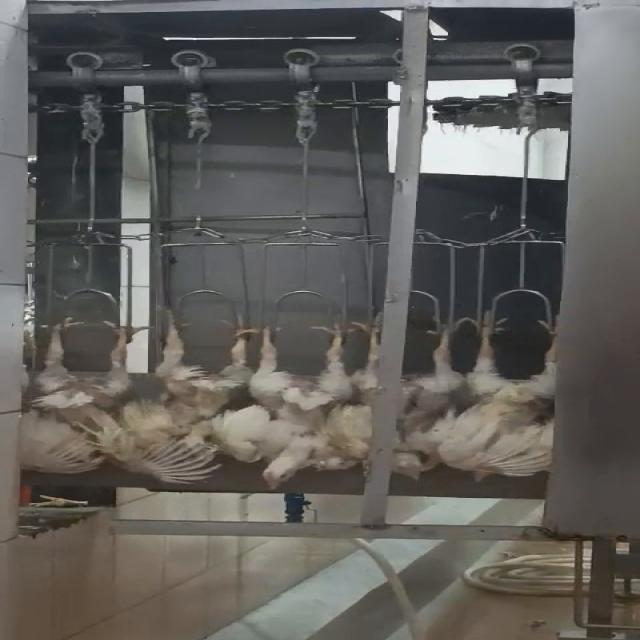chicken: (107, 309, 269, 484), (0, 312, 147, 478), (336, 310, 464, 483), (443, 306, 565, 483), (235, 312, 346, 493)
